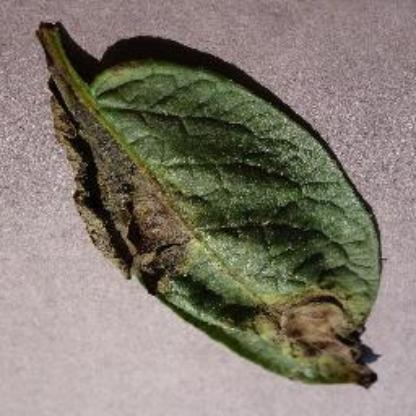Late-Blight: (20, 30, 394, 386)
